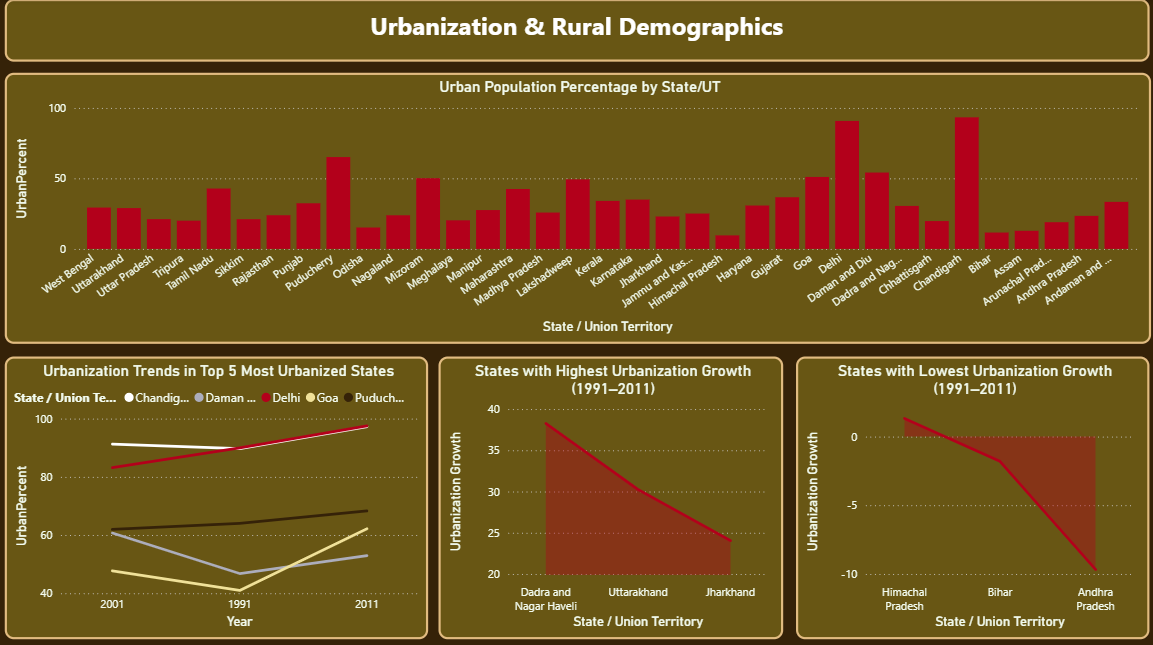

What the dashboard file says about the page in this screenshot:
{"tool":"powerbi","page":{"name":"Urbanization & Rural Demographics","canvas":[1280,720],"ordinal":3},"visuals":[{"type":"textbox","box":[9.6,0,1257,68.6],"z":0},{"type":"clusteredColumnChart","title":"Urban Population Percentage by State/UT","fields":{"Y":["MeasuresTable.UrbanPercent"],"Category":["CensusData.State / Union Territory"]},"box":[9.6,81,1258.3,297.8],"z":1000},{"type":"lineChart","title":" Urbanization Trends in Top 5 Most Urbanized States","fields":{"Y":["MeasuresTable.UrbanPercent"],"Category":["CensusData.Year"],"Series":["CensusData.State / Union Territory"]},"box":[9.6,392.5,465.2,310.1],"z":2000},{"type":"stackedAreaChart","title":" States with Highest Urbanization Growth (1991–2011)","fields":{"Category":["CensusData.State / Union Territory"],"Y":["MeasuresTable.Urbanization Growth"]},"box":[485.8,392.5,378.7,310.1],"z":3000},{"type":"stackedAreaChart","title":" States with Lowest Urbanization Growth (1991–2011)","fields":{"Category":["CensusData.State / Union Territory"],"Y":["MeasuresTable.Urbanization Growth"]},"box":[878.2,392.5,388.3,310.1],"z":4000}]}

Visuals, with their boxes in screenshot pixels (x1, y1, x2, y2), scaled from the page's 1280x720 canvas onto the 1153x645 screenshot:
textbox: 9:0:1141:61
"Urban Population Percentage by State/UT" clusteredColumnChart: 9:73:1142:339
" Urbanization Trends in Top 5 Most Urbanized States" lineChart: 9:352:428:629
" States with Highest Urbanization Growth (1991–2011)" stackedAreaChart: 438:352:779:629
" States with Lowest Urbanization Growth (1991–2011)" stackedAreaChart: 791:352:1141:629
